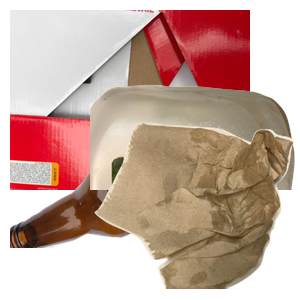cardboard: (10, 10, 250, 190)
glass: (10, 120, 247, 300)
plastic: (90, 82, 300, 262)
trash: (92, 120, 300, 300)
